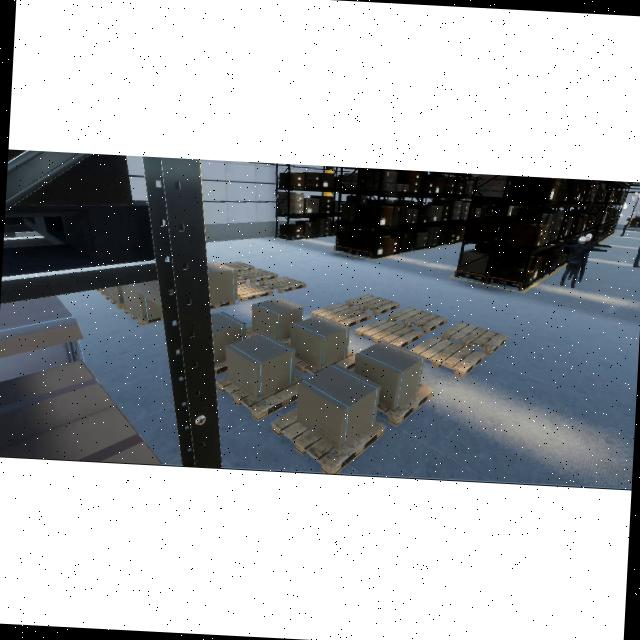wooden_pallet: (270, 408, 386, 475), (216, 373, 304, 421), (410, 336, 486, 376), (376, 382, 435, 426), (441, 321, 509, 355), (355, 319, 422, 348), (387, 306, 448, 334), (311, 303, 372, 328), (345, 294, 399, 316), (260, 275, 308, 293), (237, 282, 274, 303), (237, 268, 278, 283), (221, 261, 255, 272), (237, 278, 246, 285)
